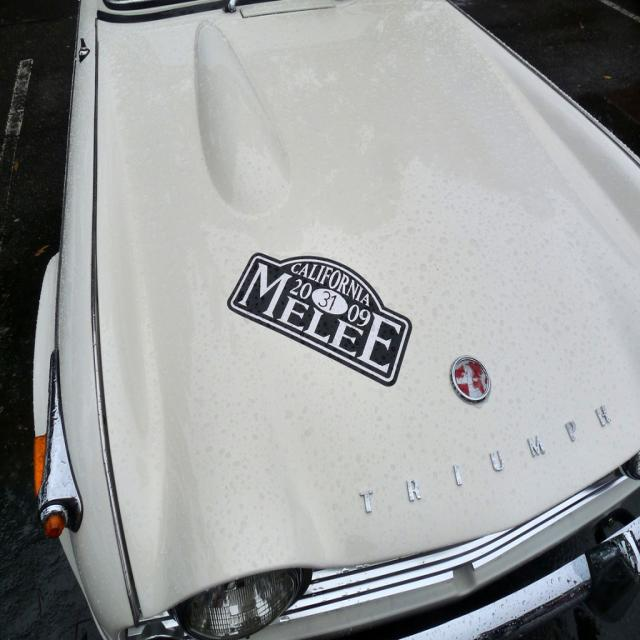car: (25, 0, 638, 638)
